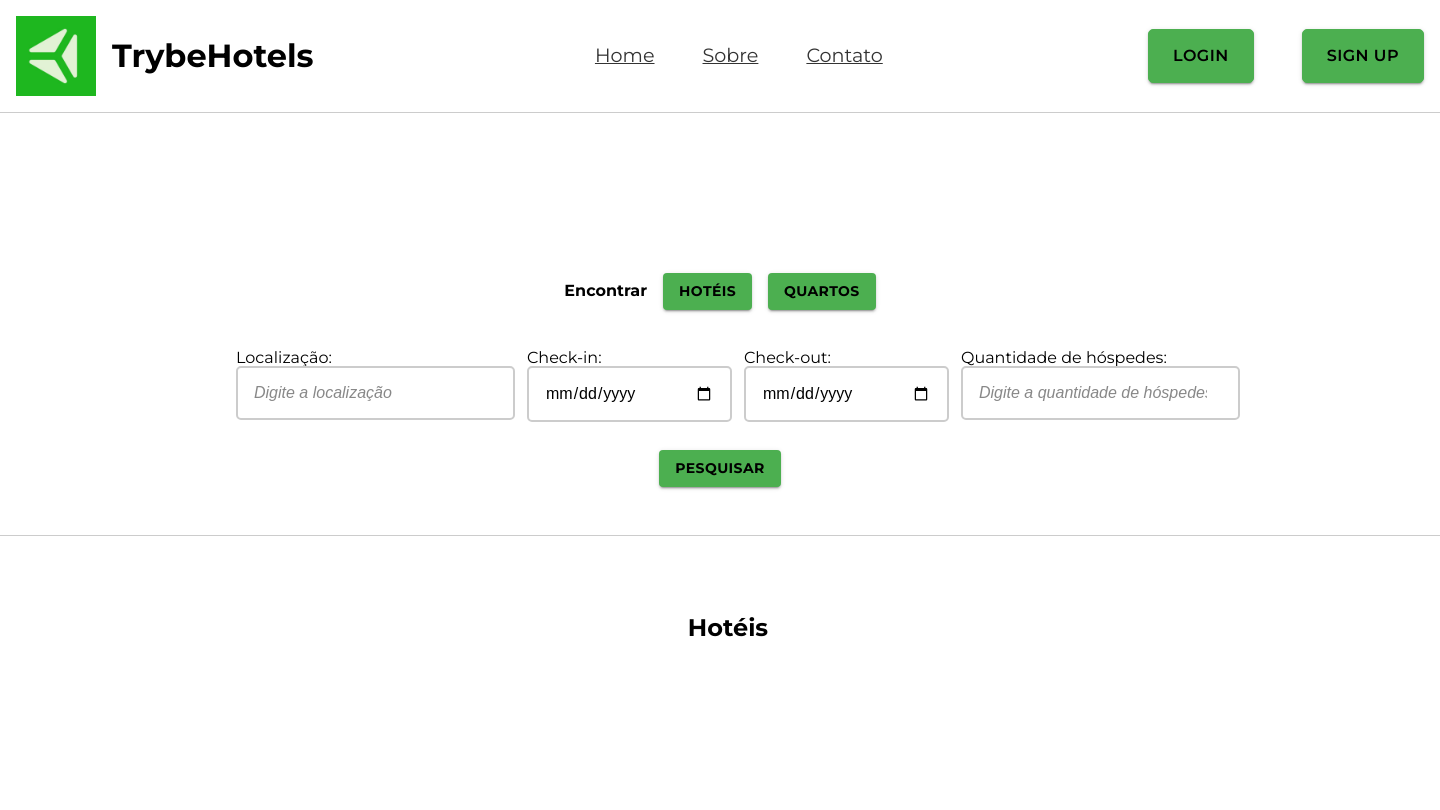
Should show Login Form elements › Should show Login Form elements after clicking on Login button
The width and height of the screenshot is (1440, 810).
What coordinates should you click on to do the following:
click the button "Login"
I would click on:
 (1201, 56)
Its box is [1148,29,1254,83].
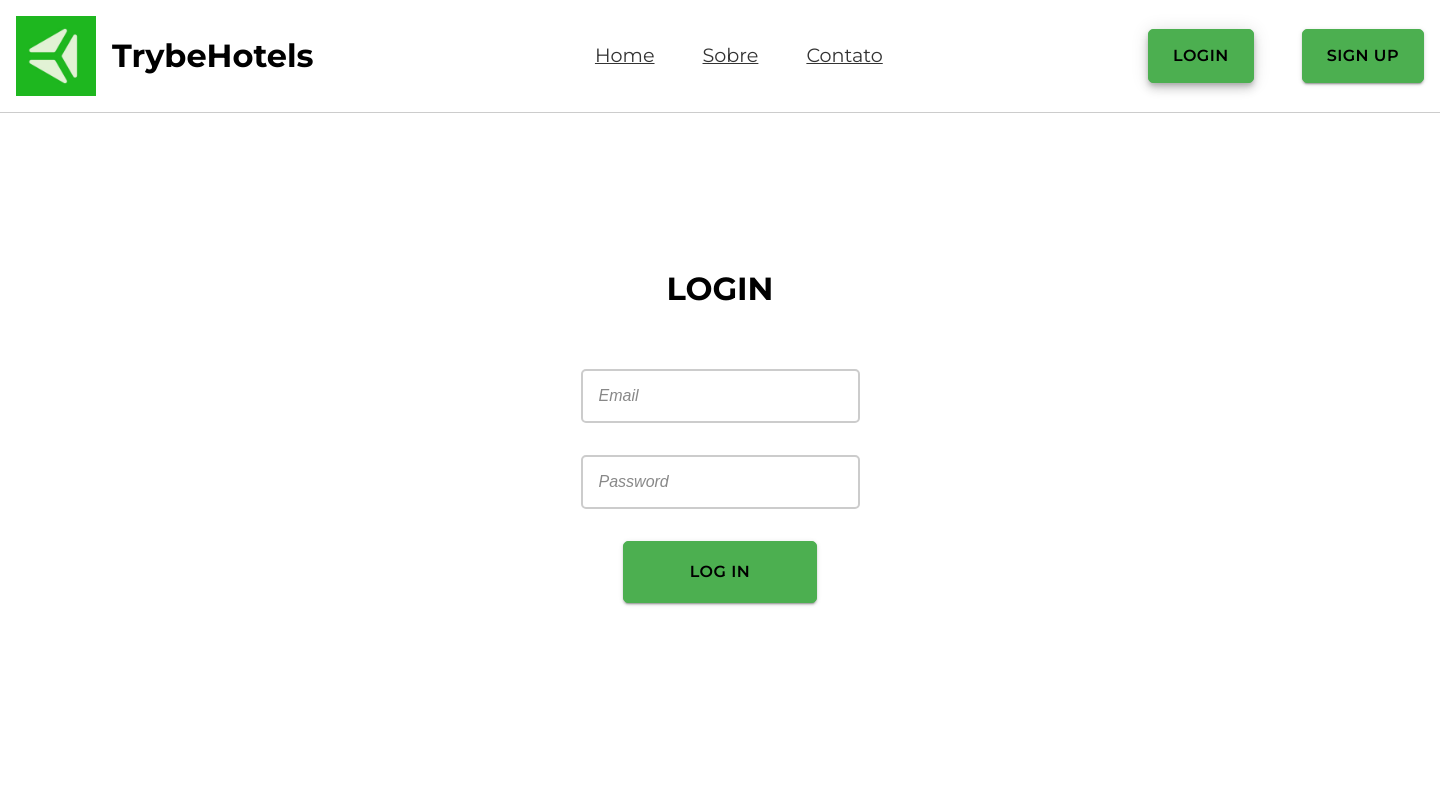
Expected: the heading "LOGIN" is shown, [666,273,774,305]
Expected: the field with placeholder "Email" is shown, [580,369,860,423]
Expected: the password field with placeholder "Password" is shown, [580,455,860,509]
